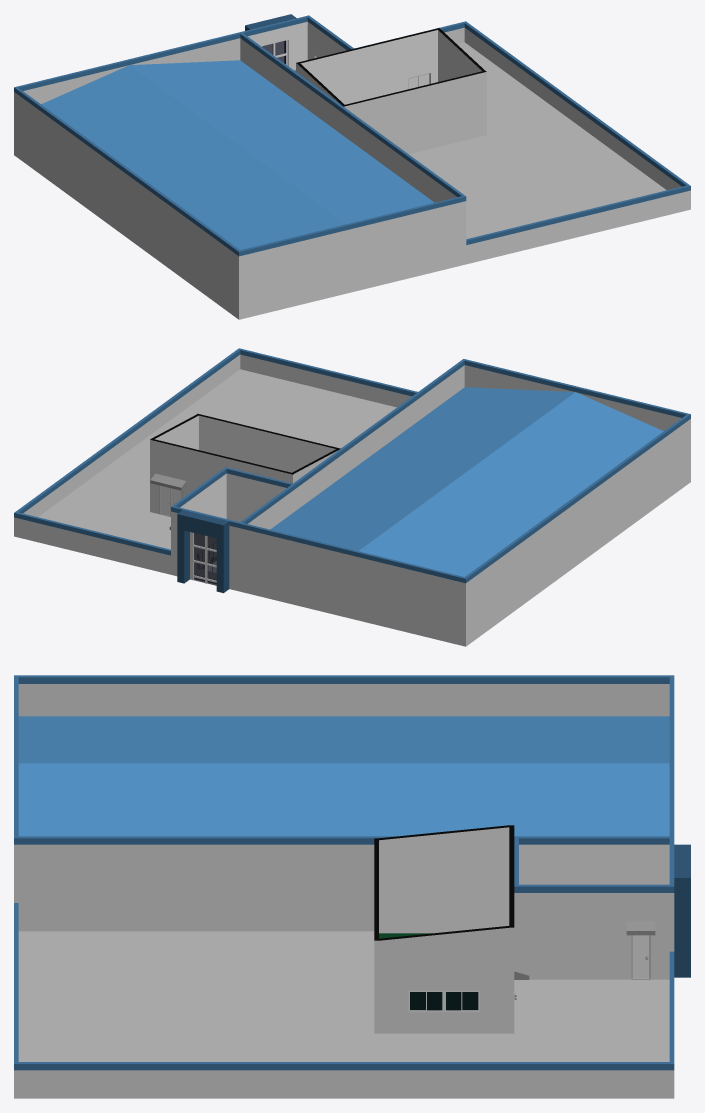
File: soulbrain_F-2-3F.glb
3 views of the same model, one above another, from view 1: azimuth 30°, elevation 25°; view 2: azimuth 150°, elevation 25°; view 3: azimuth 270°, elevation 25° (orthographic). The views are drawn at different scales.
Visible parts, largest first — view 1: F-2-3F_Wall, F-2-3F_Floor; view 2: F-2-3F_Wall, F-2-3F_Floor, F-2-3F_Exterior, F-2-3F_Window, F-2-3F_Door; view 3: F-2-3F_Wall, F-2-3F_Floor, F-2-3F_Exterior, F-2-3F_Window, F-2-3F_Door.
Boxes of the visible parts, x1=… form: F-2-3F_Wall: x1=14, y1=15, x2=690, y2=319; F-2-3F_Floor: x1=409, y1=42, x2=666, y2=238; F-2-3F_Wall: x1=14, y1=348, x2=690, y2=646; F-2-3F_Floor: x1=38, y1=369, x2=396, y2=583; F-2-3F_Exterior: x1=150, y1=473, x2=229, y2=593; F-2-3F_Window: x1=192, y1=532, x2=216, y2=585; F-2-3F_Door: x1=159, y1=485, x2=182, y2=516; F-2-3F_Wall: x1=14, y1=675, x2=674, y2=1098; F-2-3F_Floor: x1=18, y1=931, x2=669, y2=1061; F-2-3F_Exterior: x1=514, y1=844, x2=690, y2=979; F-2-3F_Window: x1=408, y1=990, x2=479, y2=1012; F-2-3F_Door: x1=514, y1=935, x2=650, y2=999.
Bounding box in the file's own units: 32.08 × 5.2 × 28.36.
Materials: 13 (1 with a texture image).
